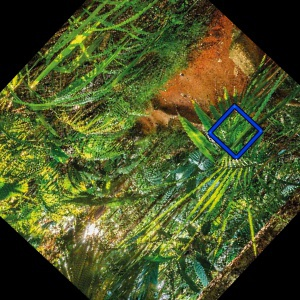square: (206, 101, 265, 161)
